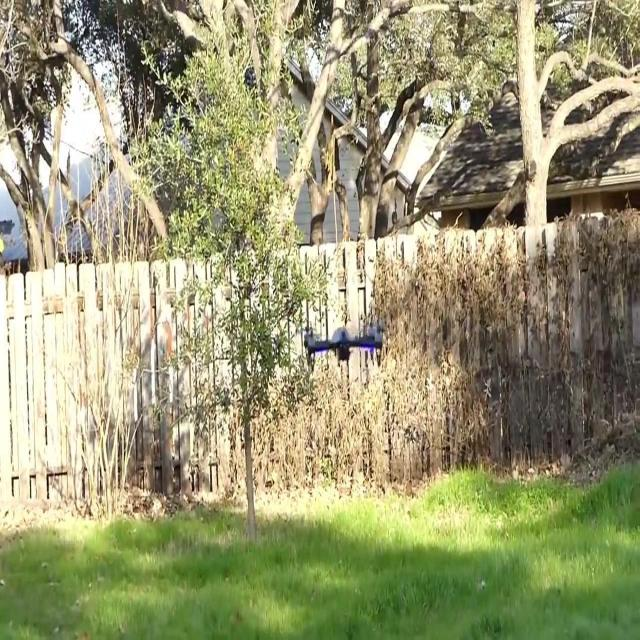UAV: (304, 327, 388, 372)
